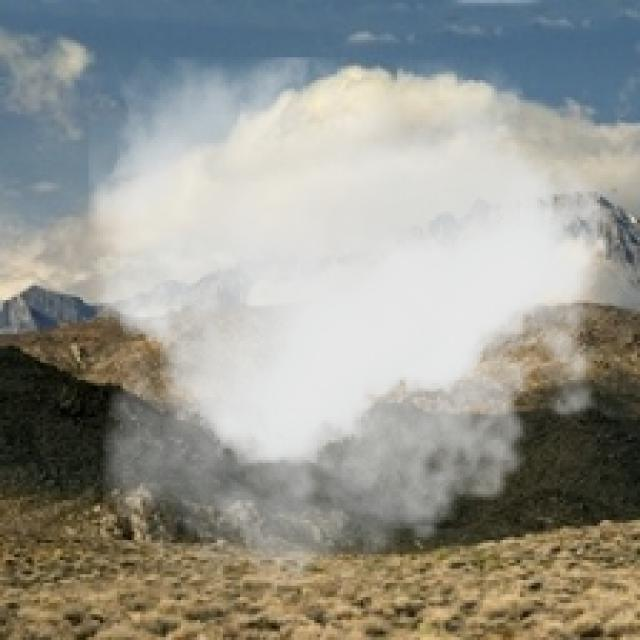Smoke: (89, 57, 632, 609)
